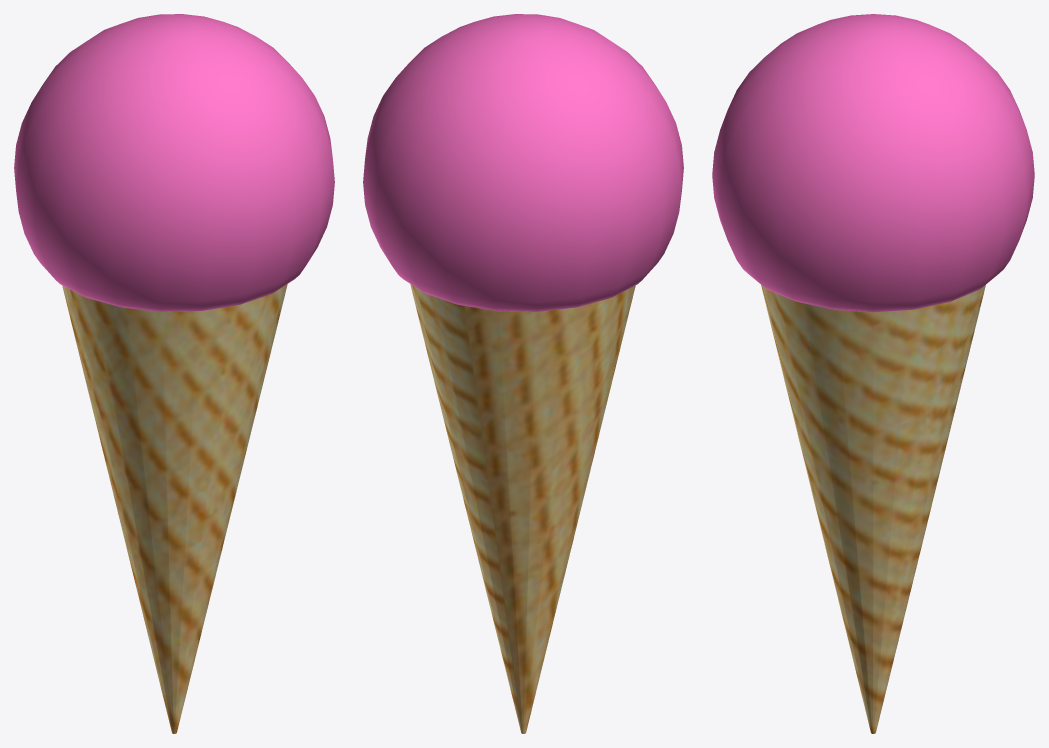
File: icecream_01.fbx
The picture shows the model from 3 angles, left to right: view 1: azimuth 30°, elevation 25°; view 2: azimuth 150°, elevation 25°; view 3: azimuth 270°, elevation 25°; orthographic projection.
Visible parts, largest first — view 1: ball, waffle; view 2: ball, waffle; view 3: ball, waffle.
Part boxes in pixels (x1,y1,x2,y2): ball: [14, 14, 334, 311]; waffle: [62, 284, 287, 733]; ball: [363, 14, 683, 311]; waffle: [410, 284, 635, 733]; ball: [712, 14, 1034, 312]; waffle: [761, 285, 985, 733].
Bounding box in the file's own units: 24.84 × 59.8 × 24.84.
Materials: 2 (2 with a texture image).
